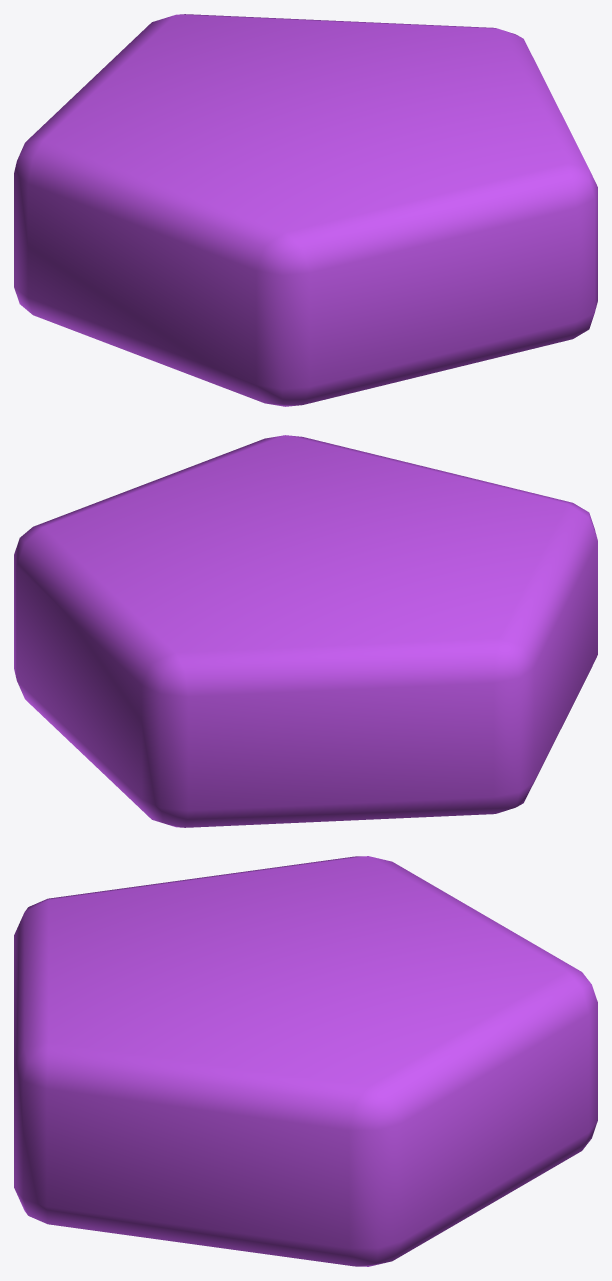
File: Candy_05.fbx
3 views of the same model, one above another, from view 1: azimuth 30°, elevation 25°; view 2: azimuth 150°, elevation 25°; view 3: azimuth 270°, elevation 25° (orthographic). The views are drawn at different scales.
Parts seen in each view (by area): view 1: Candy_05_Mesh; view 2: Candy_05_Mesh; view 3: Candy_05_Mesh.
Part boxes in pixels (x1,y1,x2,y2): Candy_05_Mesh: (14,14,597,406); Candy_05_Mesh: (14,435,597,827); Candy_05_Mesh: (14,856,597,1266).
Bounding box in the file's own units: 1.4 × 0.46 × 1.35.
